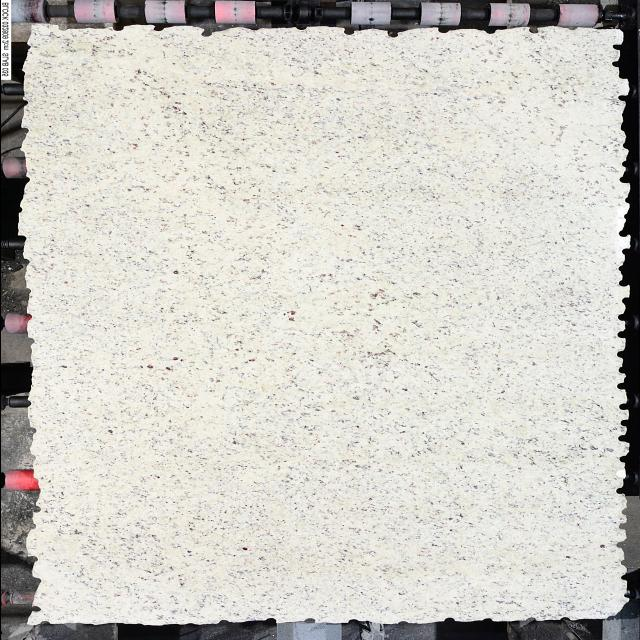chapa: (20, 25, 627, 625)
veio: (197, 29, 217, 40), (614, 434, 634, 444), (438, 616, 458, 626), (614, 453, 630, 465), (612, 486, 629, 496), (612, 540, 628, 550), (616, 402, 631, 412), (614, 521, 629, 531), (264, 616, 279, 626), (28, 503, 40, 515), (151, 23, 165, 33), (614, 381, 628, 391), (616, 418, 630, 428), (299, 618, 319, 625), (28, 604, 42, 614), (385, 30, 400, 39), (616, 312, 628, 323), (614, 330, 627, 340), (617, 572, 630, 582), (616, 177, 630, 186), (615, 558, 629, 567), (556, 616, 574, 623), (482, 28, 497, 36), (110, 25, 126, 32), (341, 28, 355, 36), (526, 26, 540, 34), (614, 94, 628, 102), (616, 279, 630, 287), (618, 297, 632, 305), (522, 615, 536, 623), (436, 26, 450, 34), (614, 350, 626, 359), (617, 230, 630, 238), (618, 248, 630, 255)
